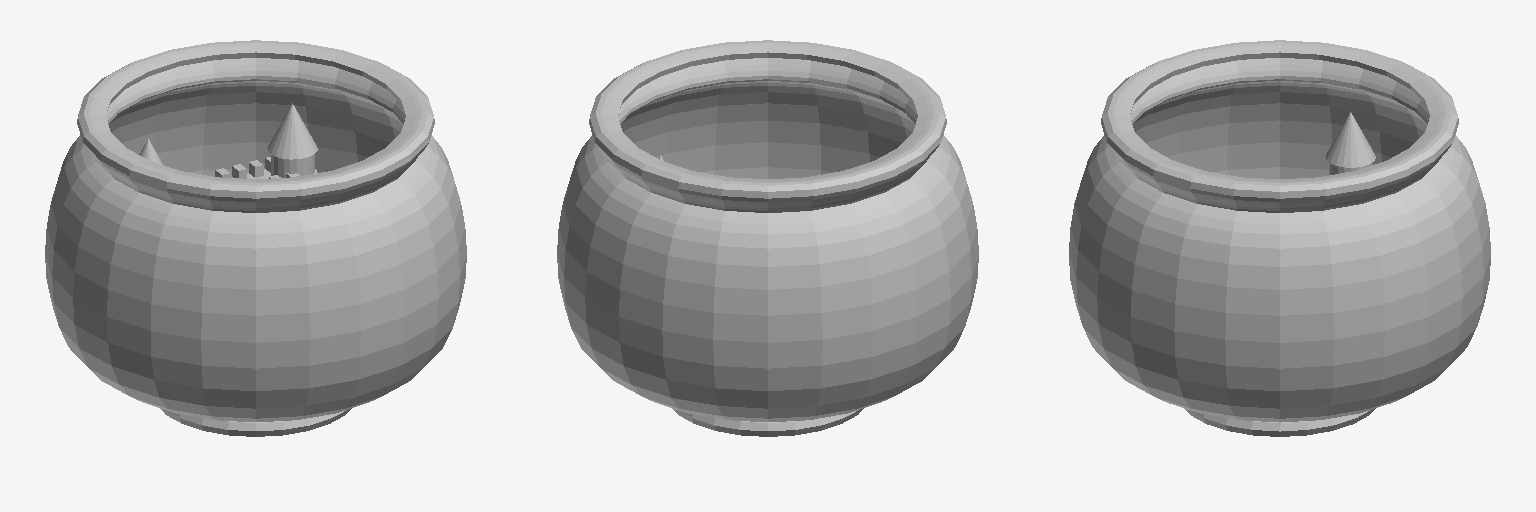
File: Fishbowlandcastle.obj
3 views of the same model, side by side, from view 1: azimuth 30°, elevation 25°; view 2: azimuth 150°, elevation 25°; view 3: azimuth 270°, elevation 25° (orthographic).
Visible parts, largest first — view 1: revolvedSurface1, pCube2; view 2: revolvedSurface1; view 3: revolvedSurface1, pCube2.
Boxes of the visible parts, <box> form: revolvedSurface1: <box>45,40,466,436</box>; pCube2: <box>139,103,317,178</box>; revolvedSurface1: <box>557,40,978,436</box>; revolvedSurface1: <box>1069,40,1490,436</box>; pCube2: <box>1326,112,1375,174</box>.
Size of the model in its own units: 18.61 by 13.91 by 18.61.